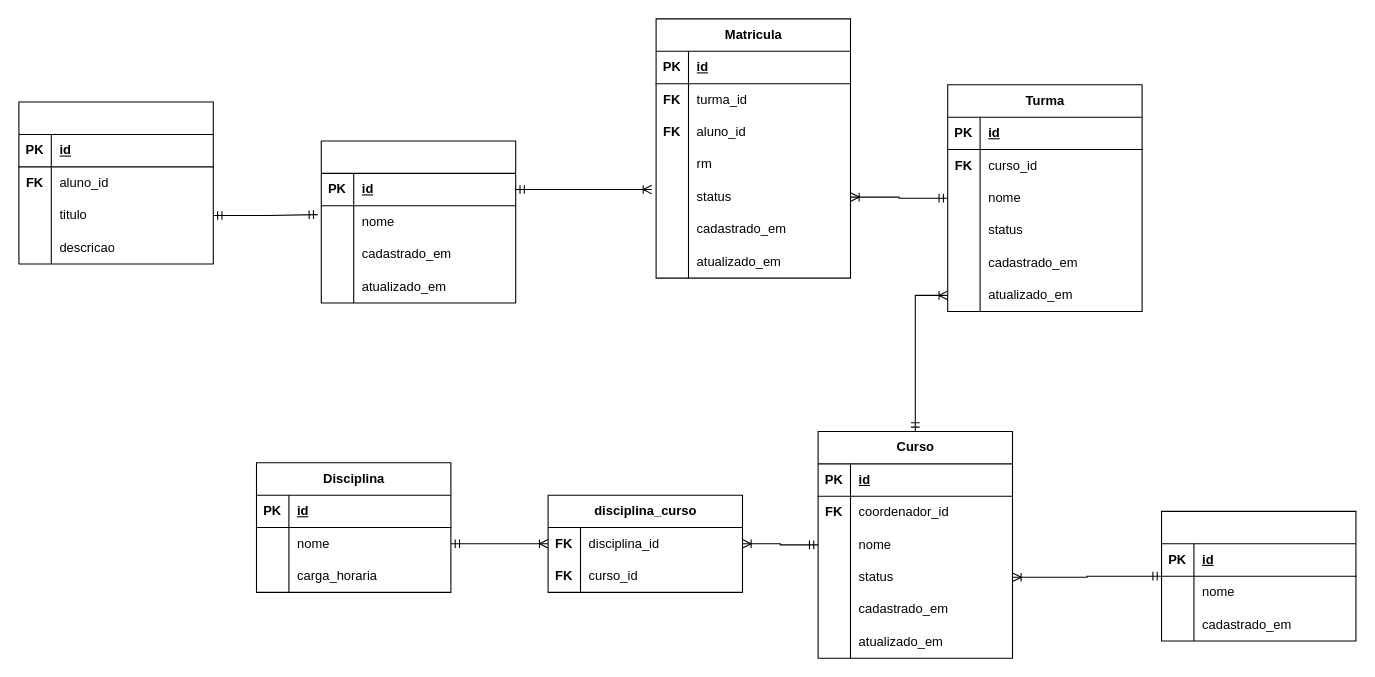
Image size: 1375x677. Some labels were removed from this diagram. Each missing label, with the box of its shape:
Aluno: (320, 140, 516, 303)
Coordenador: (1160, 510, 1356, 641)
Perfil: (18, 101, 213, 264)
